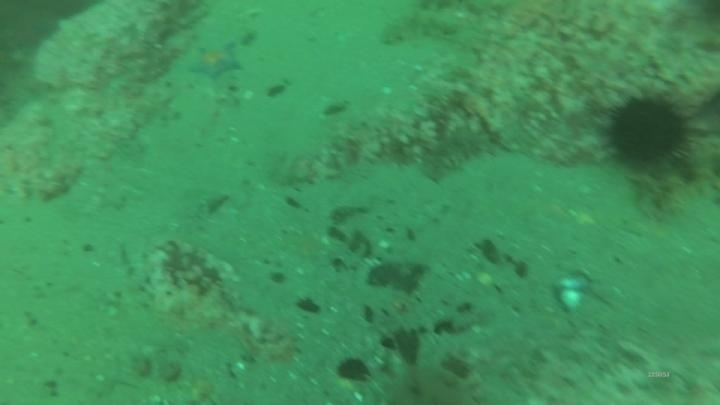echinus: (602, 89, 696, 175)
holothurian: (629, 143, 719, 221), (418, 123, 493, 184), (377, 8, 464, 49)
starfish: (185, 39, 244, 83)
